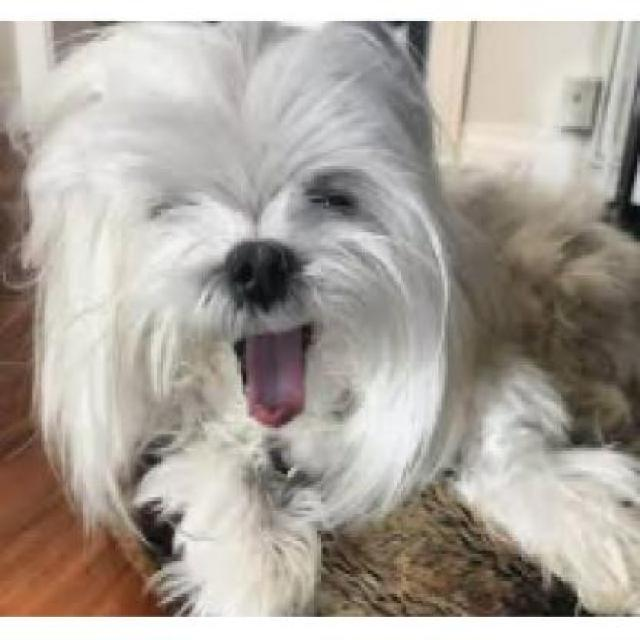Dog: (5, 23, 637, 611)
